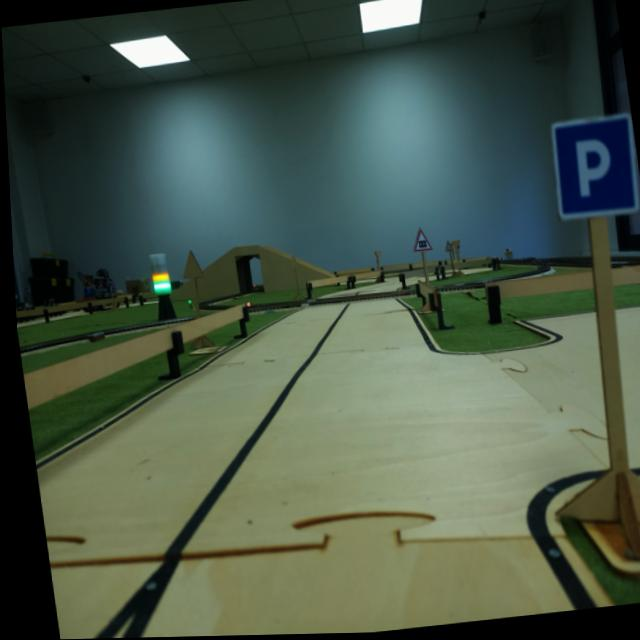panneau_parking: (543, 106, 640, 224)
